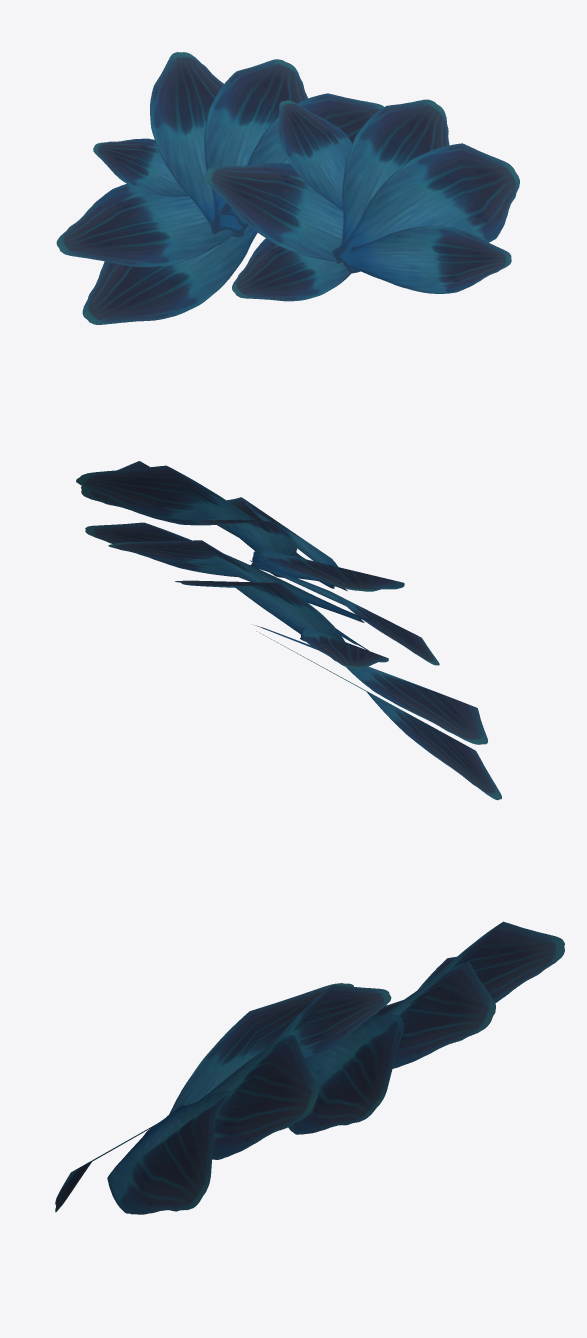
File: mossXenoforestPlantBlue2.fbx
3 renders of one model, top to bottom at view 1: azimuth 30°, elevation 25°; view 2: azimuth 150°, elevation 25°; view 3: azimuth 270°, elevation 25°, orthographic. The views are drawn at different scales.
Visible parts, largest first — view 1: mossXenoforestPlantBlue2; view 2: mossXenoforestPlantBlue2; view 3: mossXenoforestPlantBlue2.
Part boxes in pixels (x1,y1,x2,y2): mossXenoforestPlantBlue2: (56, 52, 519, 324); mossXenoforestPlantBlue2: (76, 461, 501, 800); mossXenoforestPlantBlue2: (55, 921, 564, 1214).
Size of the model in its own units: 0.5867 by 0.3331 by 0.4763.
